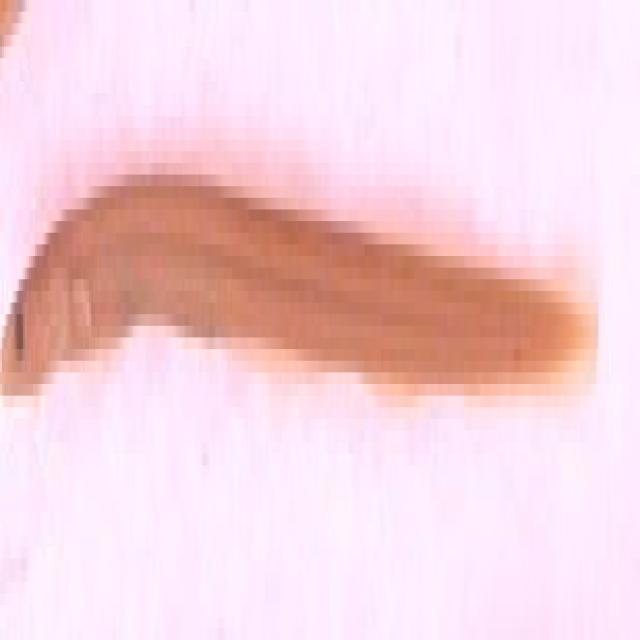Freshwater-Eel: (3, 51, 640, 640)
